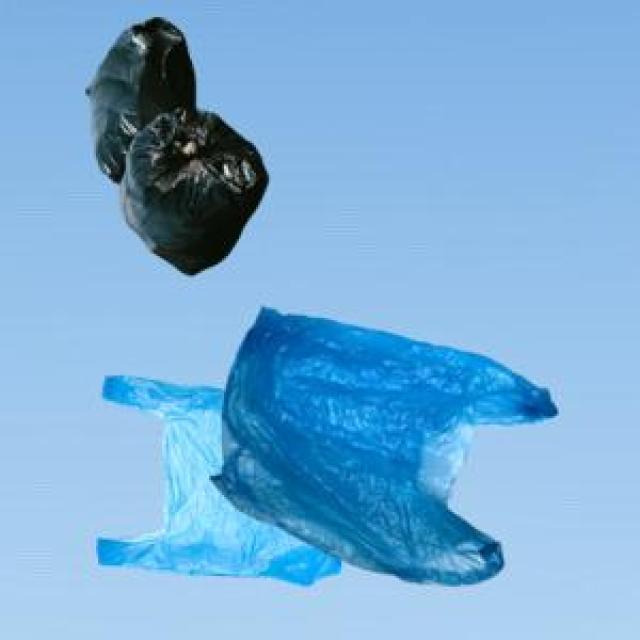miscellaneous trash: (81, 15, 265, 271)
